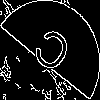C: (25, 25, 74, 84)
